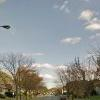Tree: (42, 47, 100, 98)
